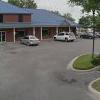Car: (18, 31, 41, 53)
